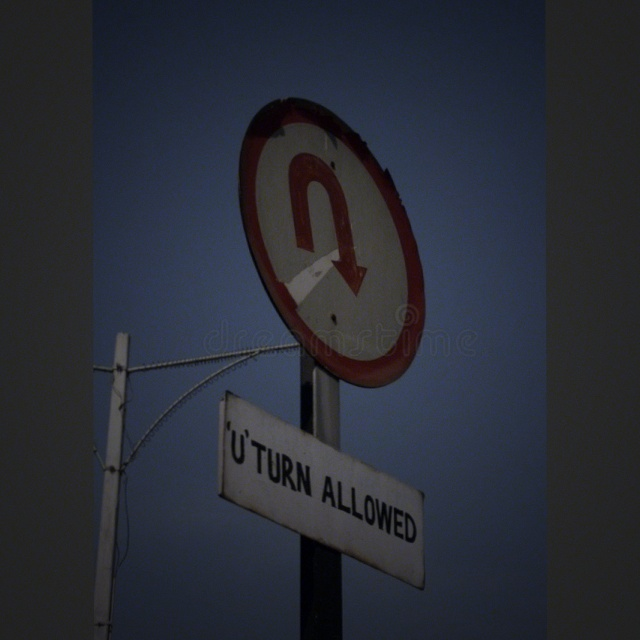U_Turn_Ahead: (241, 82, 447, 390)
